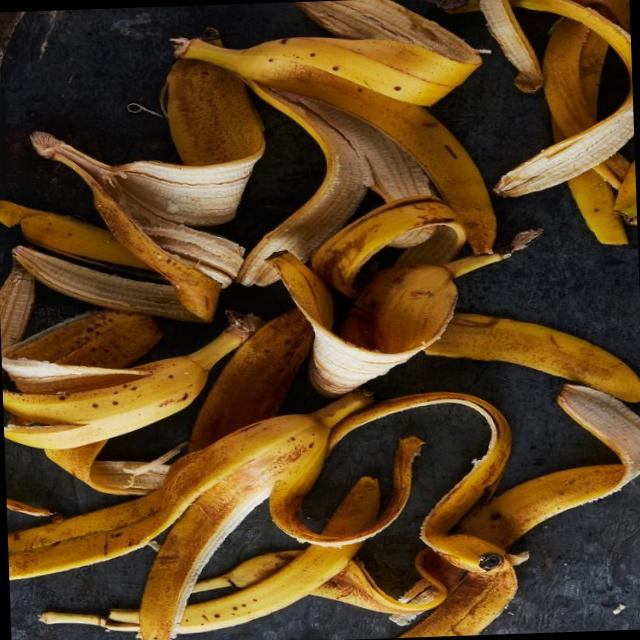banana_peel: (7, 369, 435, 640), (171, 1, 523, 294), (3, 61, 287, 317), (257, 182, 478, 394), (0, 300, 269, 456)
